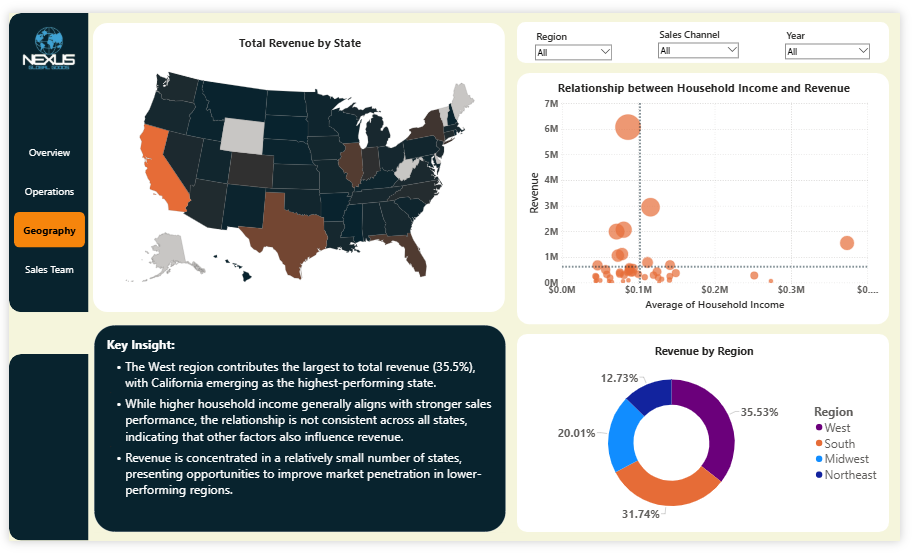

The dashboard page shown, as its layout file describes it:
{"tool":"powerbi","page":{"name":"Geography","canvas":[2700,1600],"ordinal":2},"visuals":[{"type":"shape","title":"Side Bar","box":[0,1034.5,241.4,565.5],"z":0},{"type":"shape","title":"Side Bar","box":[0,0,241.4,906.9],"z":1000},{"type":"shape","title":"Background","box":[241.4,0,2458.6,1600],"z":2000},{"type":"image","title":"Company Logo","box":[0,0,242.5,240],"z":3000},{"type":"pageNavigator","box":[15,367.5,215,462.5],"z":4000},{"type":"shape","title":"Middle Card","box":[255.2,31,1248.3,875.9],"z":5000},{"type":"shapeMap","title":"Total Revenue by State","fields":{"Category":["Dim Sales Store.State"],"Value":["Metric Measures.Revenue"]},"box":[289.7,65.5,1182.8,813.8],"z":6000},{"type":"shape","title":"Middle Card","box":[1537.9,972.4,1127.6,600],"z":7000},{"type":"shape","title":"Middle Card","box":[1537.9,182.8,1127.6,762.1],"z":8000},{"type":"scatterChart","title":"Relationship between Household Income and Revenue","fields":{"X":["Avg(Dim Sales Store.Household Income)"],"Category":["Dim Sales Store.State"],"Y":["Metric Measures.Revenue"],"Size":["Metric Measures.Profit"]},"box":[1569,203.4,1072.4,703.4],"z":9000},{"type":"shape","title":"Middle Card","box":[258.6,944.8,1248.3,627.6],"z":10000},{"type":"textbox","box":[289.7,972.4,1182.8,582.8],"z":11000},{"type":"shape","title":"Top Card","box":[1537.9,27.6,1127.6,124.1],"z":12000},{"type":"slicer","title":"Year Slicer","fields":{"Values":["Dim Sales Order.Sales Channel"]},"box":[1958,40,263.3,103.3],"z":13000},{"type":"slicer","title":"Year Slicer","fields":{"Values":["Dim Date.Year"]},"box":[2341.4,41.4,275.9,103.4],"z":14000},{"type":"slicer","title":"Year Slicer","fields":{"Values":["Dim Region.Region"]},"box":[1586.2,44.8,251.7,100],"z":15000},{"type":"donutChart","fields":{"Category":["Dim Region.Region"],"Y":["Metric Measures.Revenue"]},"box":[1570,999,1074.1,555.6],"z":16000}]}

Visuals, with their boxes in screenshot pixels (x1, y1, x2, y2), scaled from the page's 2700x1600 canvas onto the 915x556 screenshot:
"Side Bar" shape: (left=0, top=359, right=82, bottom=555)
"Side Bar" shape: (left=0, top=0, right=82, bottom=315)
"Background" shape: (left=82, top=0, right=914, bottom=555)
"Company Logo" image: (left=0, top=0, right=82, bottom=83)
pageNavigator: (left=5, top=128, right=78, bottom=288)
"Middle Card" shape: (left=86, top=11, right=510, bottom=315)
"Total Revenue by State" shapeMap: (left=98, top=23, right=499, bottom=306)
"Middle Card" shape: (left=521, top=338, right=903, bottom=546)
"Middle Card" shape: (left=521, top=64, right=903, bottom=328)
"Relationship between Household Income and Revenue" scatterChart: (left=532, top=71, right=895, bottom=315)
"Middle Card" shape: (left=88, top=328, right=511, bottom=546)
textbox: (left=98, top=338, right=499, bottom=540)
"Top Card" shape: (left=521, top=10, right=903, bottom=53)
"Year Slicer" slicer: (left=664, top=14, right=753, bottom=50)
"Year Slicer" slicer: (left=793, top=14, right=887, bottom=50)
"Year Slicer" slicer: (left=538, top=16, right=623, bottom=50)
donutChart - Dim Region.Region x Metric Measures.Revenue: (left=532, top=347, right=896, bottom=540)
